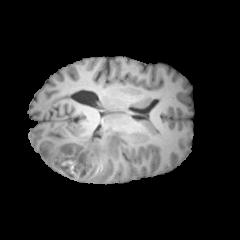glioma: (41, 127, 128, 181)
